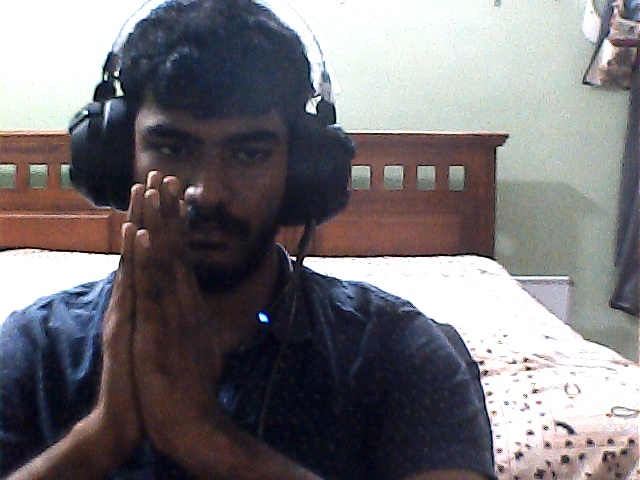Sign: (93, 172, 216, 465)
